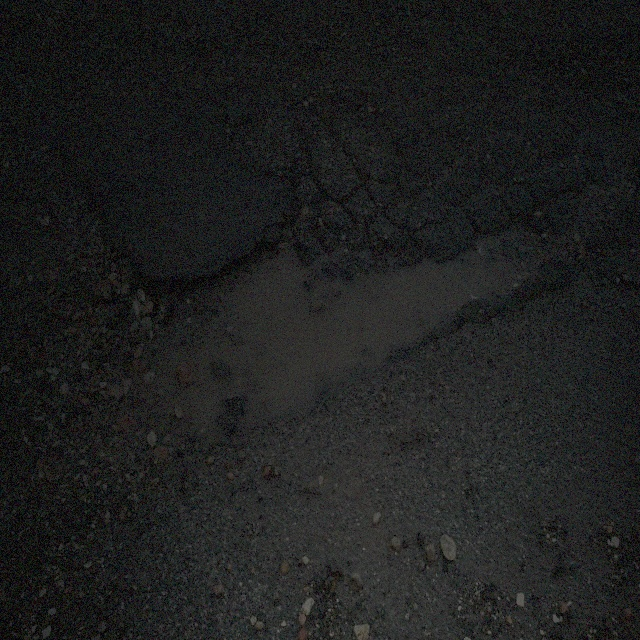pothole: (126, 220, 544, 446)
